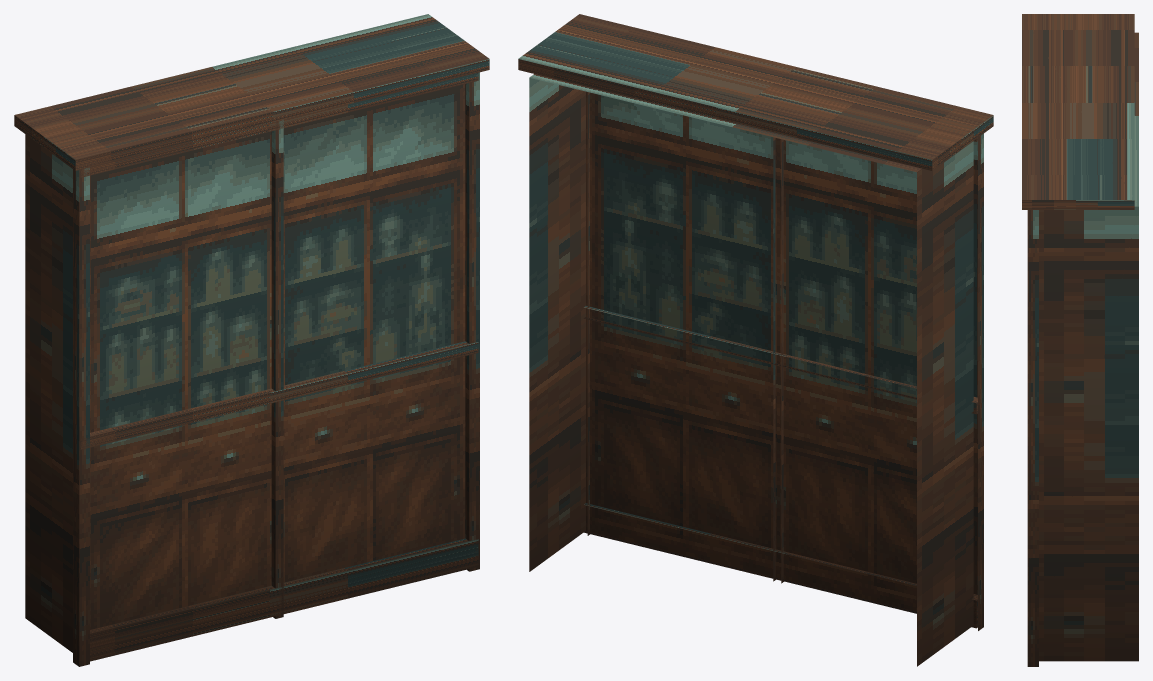
The model's file is prop_specimen_shelf-0.glb.
3 views of the same model, side by side, from view 1: azimuth 30°, elevation 25°; view 2: azimuth 150°, elevation 25°; view 3: azimuth 270°, elevation 25° (orthographic). The views are drawn at different scales.
Visible parts, largest first — view 1: prop_specimen_shelf-0; view 2: prop_specimen_shelf-0; view 3: prop_specimen_shelf-0.
Part boxes in pixels (x1=…): prop_specimen_shelf-0: x1=14, y1=14, x2=489, y2=666; prop_specimen_shelf-0: x1=518, y1=14, x2=993, y2=666; prop_specimen_shelf-0: x1=1022, y1=14, x2=1138, y2=666.
Size of the model in its own units: 1.56 by 1.84 by 0.415.
1 material, 1 textured.
